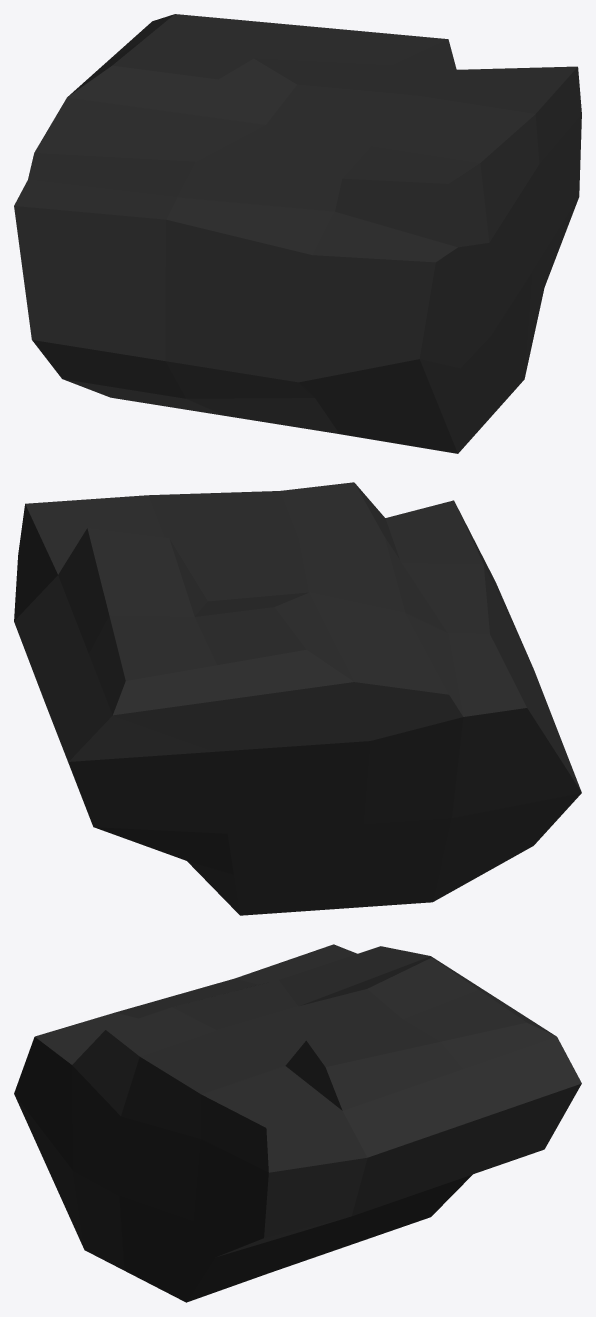
Rendered from carbon.glb.
3 renders of one model, top to bottom at view 1: azimuth 30°, elevation 25°; view 2: azimuth 150°, elevation 25°; view 3: azimuth 270°, elevation 25°, orthographic. The views are drawn at different scales.
Parts seen in each view (by area): view 1: carbon; view 2: carbon; view 3: carbon.
Part boxes in pixels (x1=…): carbon: x1=14, y1=14, x2=581, y2=453; carbon: x1=14, y1=482, x2=581, y2=915; carbon: x1=14, y1=944, x2=581, y2=1302.
Bounding box in the file's own units: 0.6972 × 0.3396 × 0.7352.
1 material, 1 textured.
